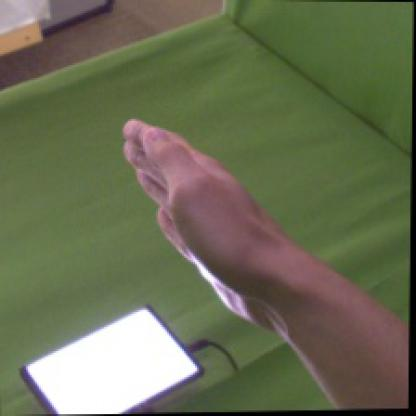Hand: (123, 118, 273, 331)
